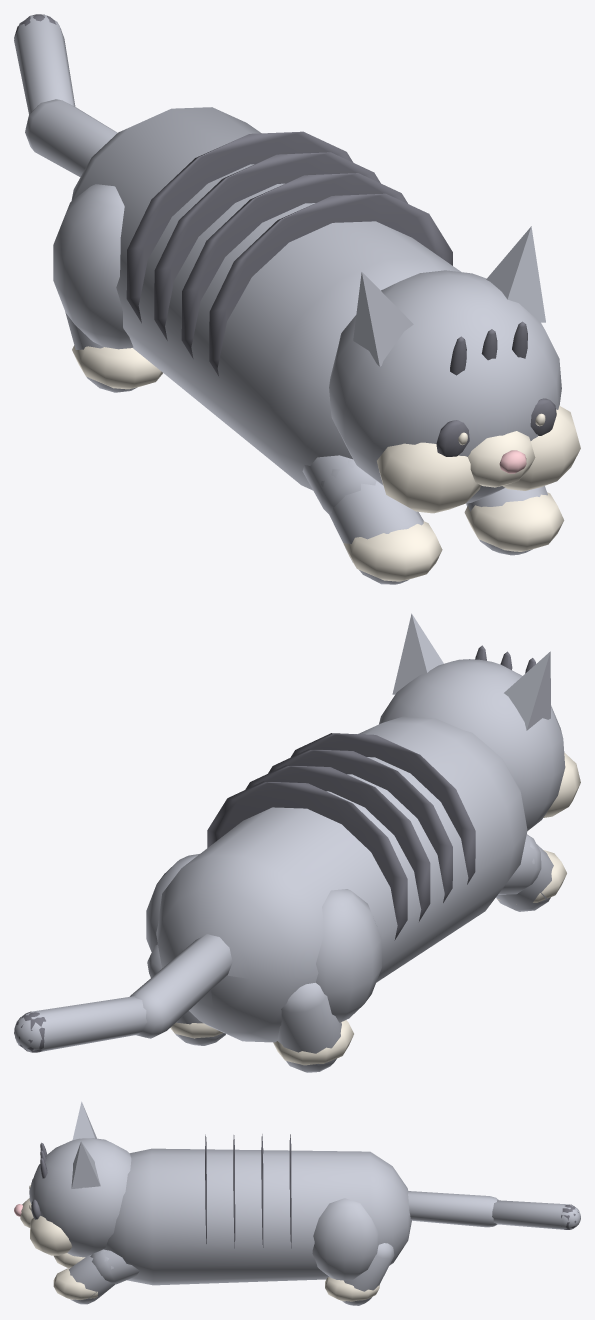
File: companion-animals-and-pet-home-cat-stalking-grey-tabby-aae91f11__20555.glb
3 renders of one model, top to bottom at view 1: azimuth 30°, elevation 25°; view 2: azimuth 150°, elevation 25°; view 3: azimuth 270°, elevation 25°, orthographic. The views are drawn at different scales.
Parts seen in each view (by area): view 1: cat-stalking-grey-tabby; view 2: cat-stalking-grey-tabby; view 3: cat-stalking-grey-tabby.
Part boxes in pixels (left/top/right/bottom): cat-stalking-grey-tabby: left=14, top=14, right=580, bottom=584; cat-stalking-grey-tabby: left=14, top=613, right=580, bottom=1072; cat-stalking-grey-tabby: left=14, top=1101, right=580, bottom=1305.
Size of the model in its own units: 0.2275 by 0.2667 by 0.8263.
